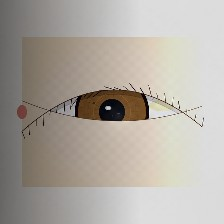pinguecula_lesion: (136, 85, 188, 126)
